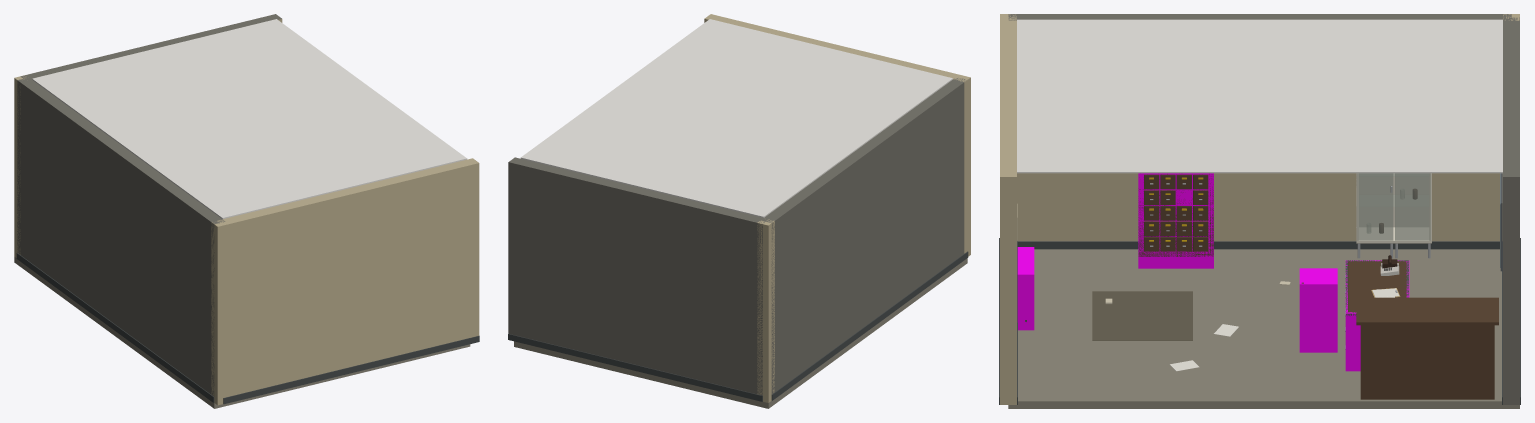
File: ENV_AbandonedNursingStation.glb
3 views of the same model, side by side, from view 1: azimuth 30°, elevation 25°; view 2: azimuth 150°, elevation 25°; view 3: azimuth 270°, elevation 25° (orthographic). The views are drawn at different scales.
Visible parts, largest first — view 1: ENV_AbandonedNursingStation_Architecture, ENV_AbandonedNursingStation_Ceiling, ENV_AbandonedNursingStation_Posts; view 2: ENV_AbandonedNursingStation_Architecture, ENV_AbandonedNursingStation_Ceiling, ENV_AbandonedNursingStation_Posts; view 3: ENV_AbandonedNursingStation_Architecture, ENV_AbandonedNursingStation_Ceiling, NS_Counter, PROP_Cabinet_Instrument_Glass_Mesh, PROP_Cabinet_Card_Index_Mesh.001, ENV_AbandonedNursingStation_Decay, PROP_Cabinet_Card_Index_COL-colonly.001, PROP_Chair_Wood_Historic_COL-colonly.006, PROP_Desk_Steel_Tanker_Mesh.002, PROP_Radiator_Cast_Iron_COL-colonly.006, PROP_Desk_Steel_Tanker_COL-colonly.002, ENV_AbandonedNursingStation_Debris.
Boxes of the visible parts, left/top/right/bottom form: ENV_AbandonedNursingStation_Architecture: left=14, top=14, right=479, bottom=408; ENV_AbandonedNursingStation_Ceiling: left=32, top=19, right=467, bottom=219; ENV_AbandonedNursingStation_Posts: left=14, top=75, right=228, bottom=405; ENV_AbandonedNursingStation_Architecture: left=508, top=14, right=968, bottom=408; ENV_AbandonedNursingStation_Ceiling: left=520, top=19, right=952, bottom=217; ENV_AbandonedNursingStation_Posts: left=757, top=76, right=970, bottom=402; ENV_AbandonedNursingStation_Architecture: left=999, top=14, right=1520, bottom=408; ENV_AbandonedNursingStation_Ceiling: left=1017, top=19, right=1502, bottom=173; NS_Counter: left=1356, top=297, right=1498, bottom=399; PROP_Cabinet_Instrument_Glass_Mesh: left=1356, top=173, right=1431, bottom=258; PROP_Cabinet_Card_Index_Mesh.001: left=1138, top=174, right=1213, bottom=256; ENV_AbandonedNursingStation_Decay: left=1017, top=204, right=1192, bottom=340; PROP_Cabinet_Card_Index_COL-colonly.001: left=1138, top=173, right=1213, bottom=268; PROP_Chair_Wood_Historic_COL-colonly.006: left=1299, top=268, right=1337, bottom=352; PROP_Desk_Steel_Tanker_Mesh.002: left=1345, top=255, right=1408, bottom=349; PROP_Radiator_Cast_Iron_COL-colonly.006: left=1017, top=247, right=1034, bottom=330; PROP_Desk_Steel_Tanker_COL-colonly.002: left=1345, top=260, right=1409, bottom=371; ENV_AbandonedNursingStation_Debris: left=1105, top=281, right=1290, bottom=371.
Size of what is drawn, in the model's own units: 4.61 by 3.12 by 6.22.
